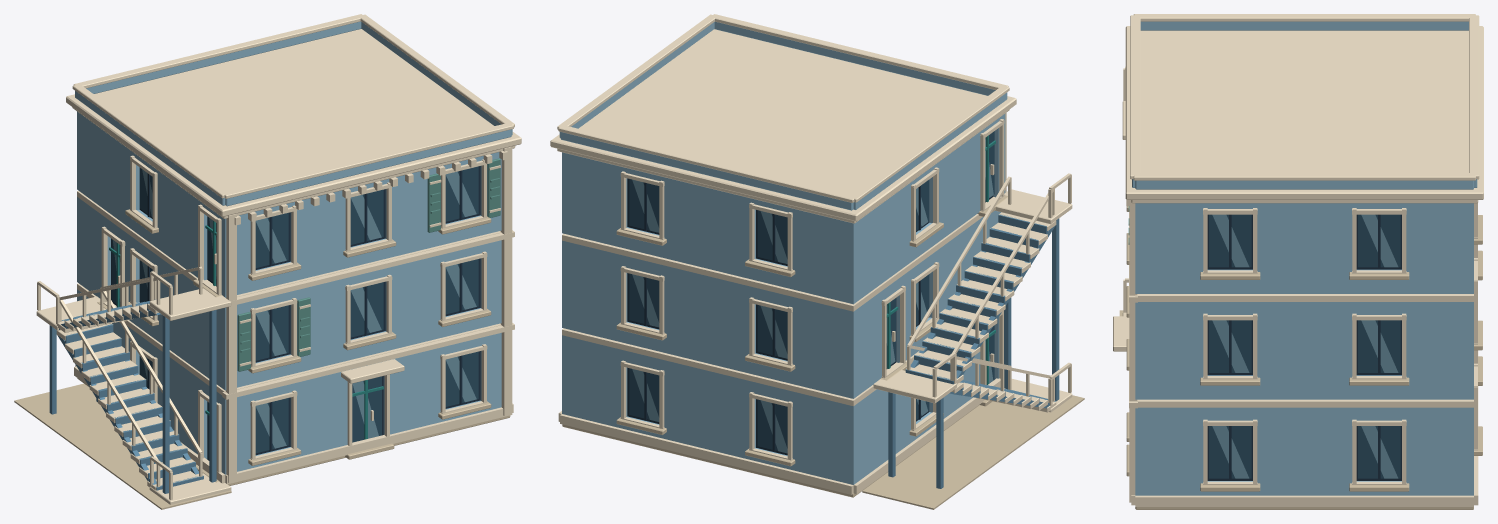
The model's file is exterior_stair_apartments.glb.
3 views of the same model, side by side, from view 1: azimuth 30°, elevation 25°; view 2: azimuth 150°, elevation 25°; view 3: azimuth 270°, elevation 25° (orthographic). The views are drawn at different scales.
Parts seen in each view (by area): view 1: ExteriorStairApartments_StaticMesh; view 2: ExteriorStairApartments_StaticMesh; view 3: ExteriorStairApartments_StaticMesh.
Part boxes in pixels (box(x1,y1,x2,y2)): ExteriorStairApartments_StaticMesh: box(14, 14, 521, 509); ExteriorStairApartments_StaticMesh: box(550, 14, 1084, 509); ExteriorStairApartments_StaticMesh: box(1113, 14, 1483, 509).
Size of the model in its own units: 12.74 by 9.84 by 9.86.
